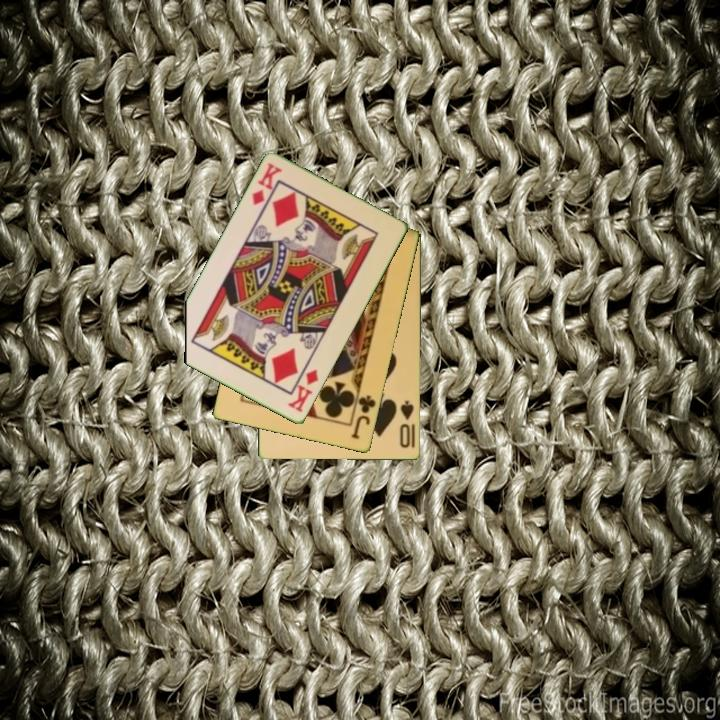10s: (396, 398, 417, 451)
Jc: (348, 392, 379, 442)
Kd: (284, 366, 321, 416), (248, 159, 285, 209)
